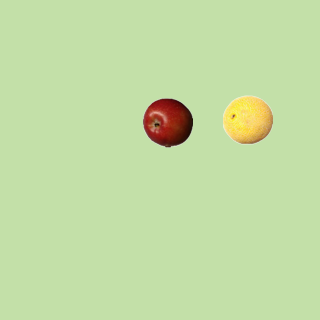Apple Braeburn: (142, 97, 192, 147)
Cantaloupe 1: (222, 94, 272, 144)
